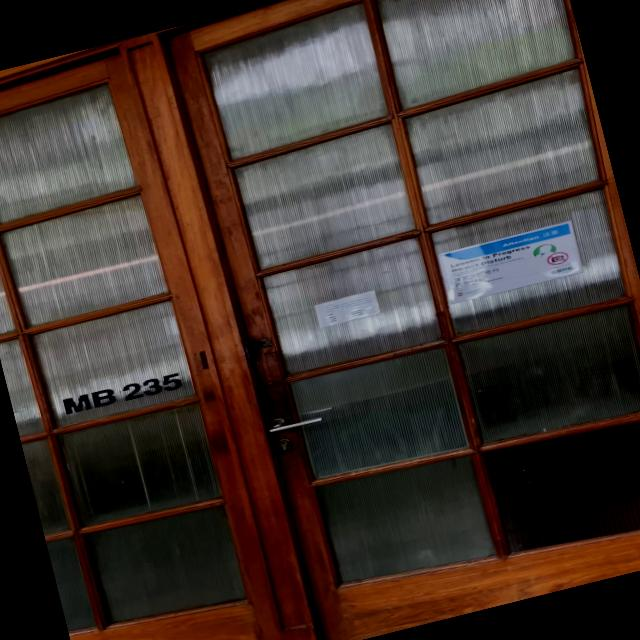room235Window: (57, 366, 188, 420)
